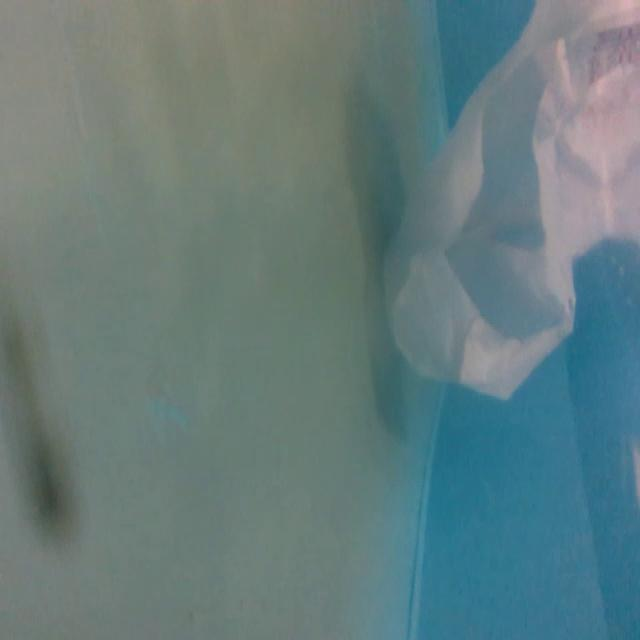plastic bags: (376, 4, 640, 406)
